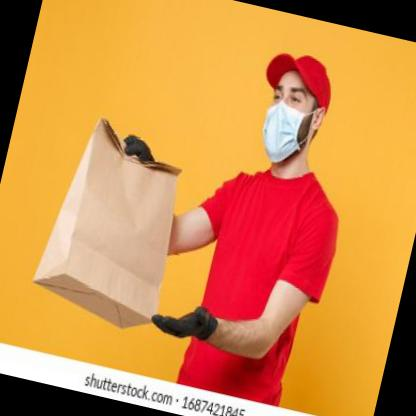Gloves: (148, 295, 220, 346), (119, 132, 161, 165)
